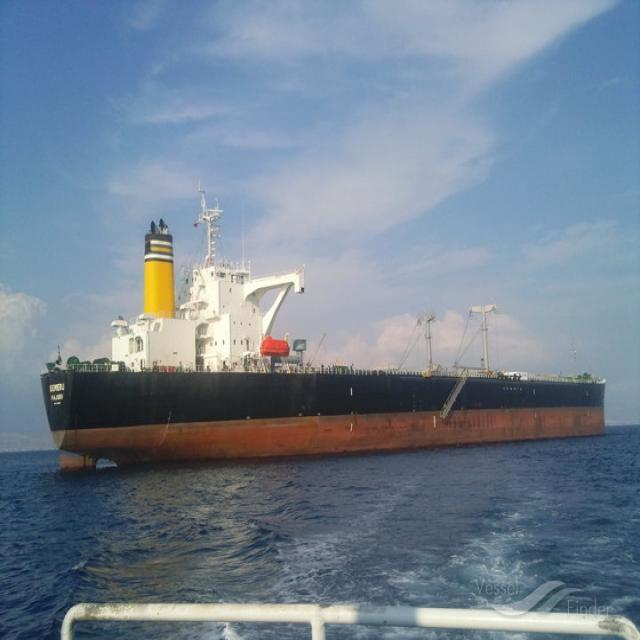Oil Tanker: (40, 207, 607, 465)
